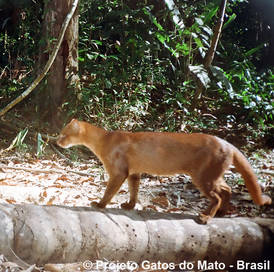Jaguarundi: (53, 115, 266, 224)
